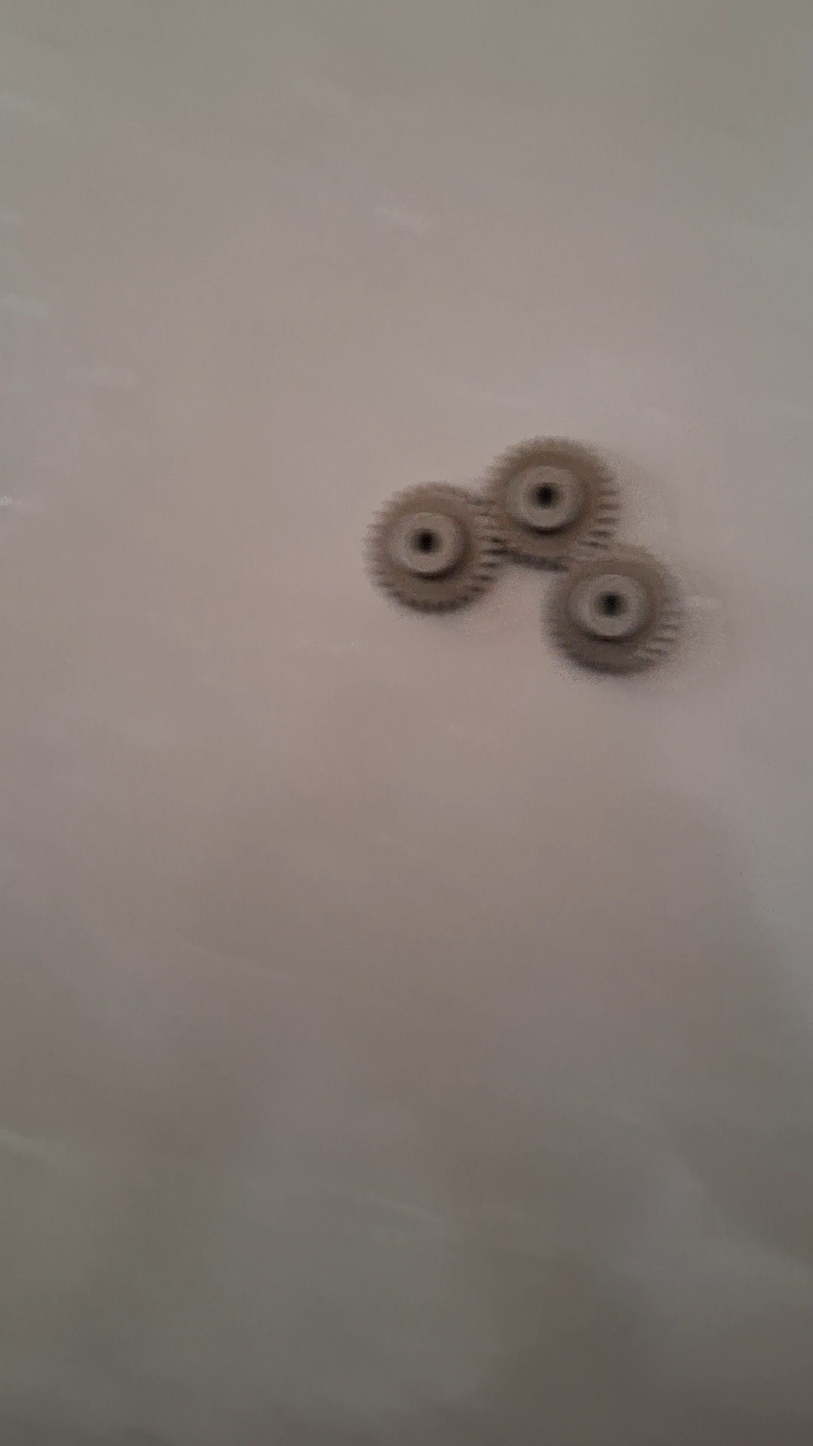spur gear: (367, 484, 504, 610), (487, 438, 618, 567), (547, 548, 679, 673)
